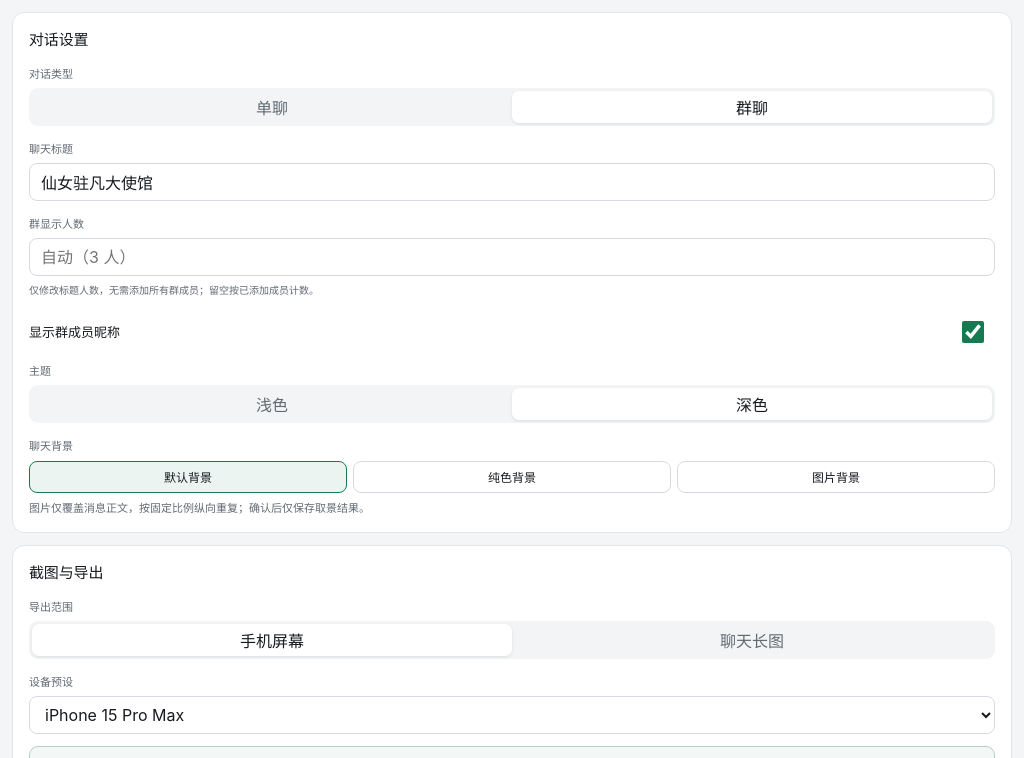
it: group display settings › shows 128 members using only three speakers and returns to automatic count when cleared
The width and height of the screenshot is (1024, 758).
Type "128" into the number field labelled "群显示人数" at x=512, y=257, box [29,238,995,276]
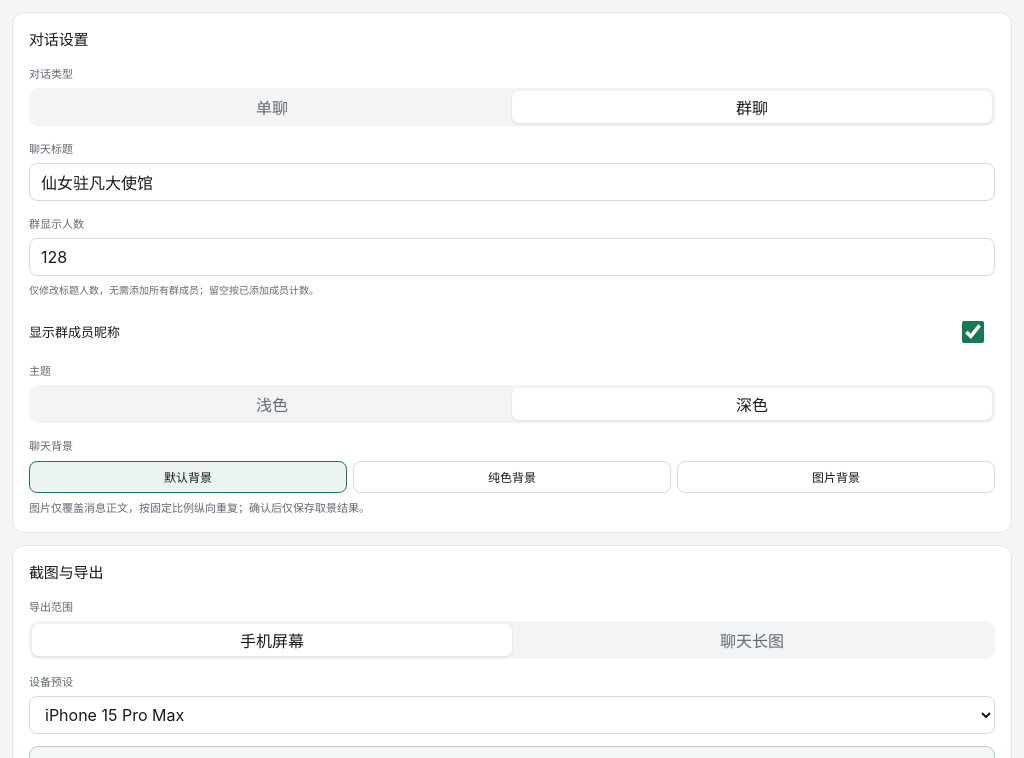
Clear the number field labelled "群显示人数" at x=512, y=257, box [29,238,995,276]
(page scrolled)
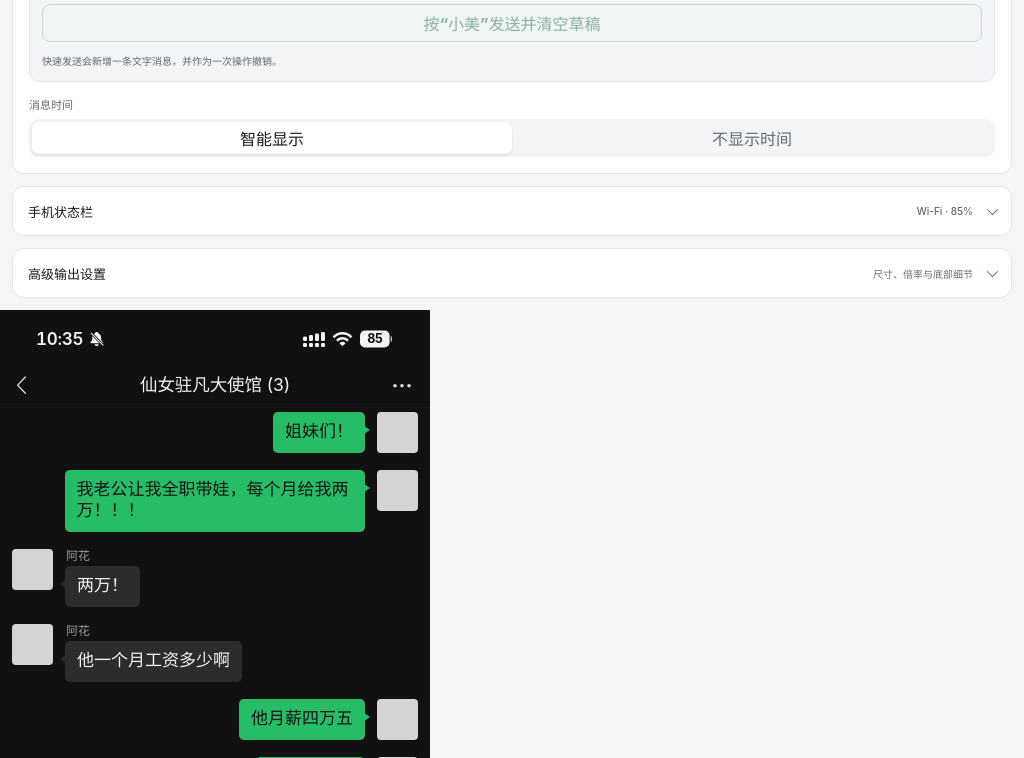
Expected: the text "仙女驻凡大使馆 (3)" is shown, [140,374,290,395]
